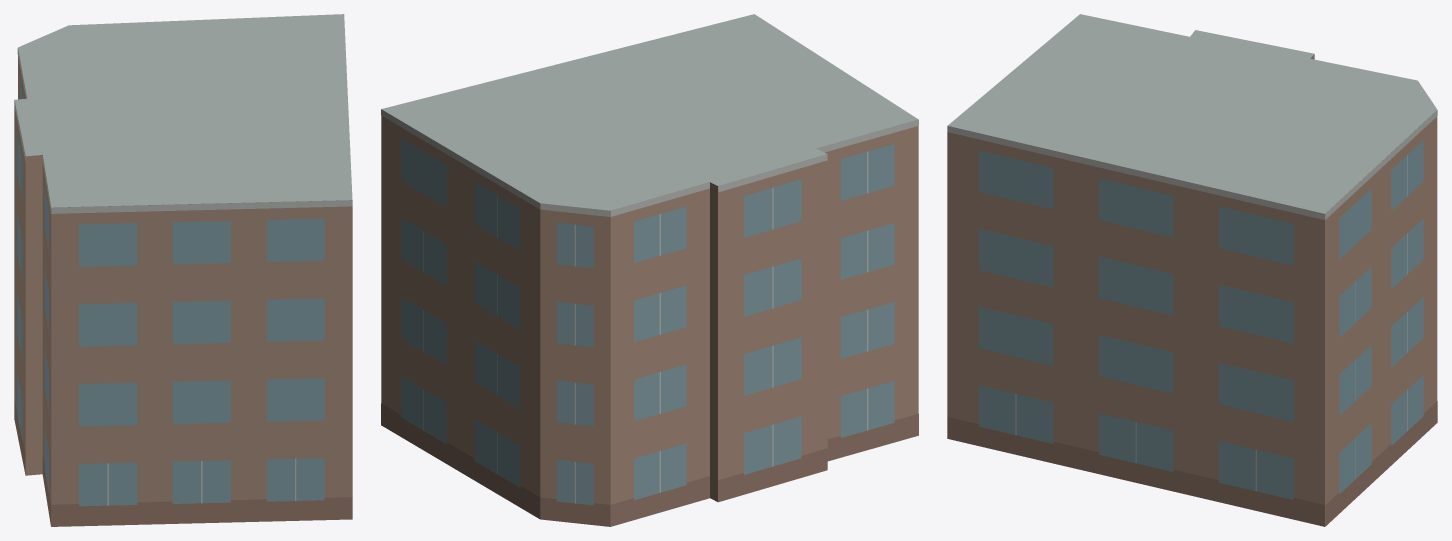
The model's file is survey-upis-33028477.glb.
3 views of the same model, side by side, from view 1: azimuth 30°, elevation 25°; view 2: azimuth 150°, elevation 25°; view 3: azimuth 270°, elevation 25° (orthographic). The views are drawn at different scales.
Visible parts, largest first — view 1: survey-upis-33028477.tmp; view 2: survey-upis-33028477.tmp; view 3: survey-upis-33028477.tmp.
Boxes of the visible parts, box(x1,y1,x2,y2) form: survey-upis-33028477.tmp: box(14, 14, 352, 526); survey-upis-33028477.tmp: box(381, 14, 918, 526); survey-upis-33028477.tmp: box(947, 14, 1437, 526).
Bounding box in the file's own units: 16.72 × 12.2 × 17.32.
